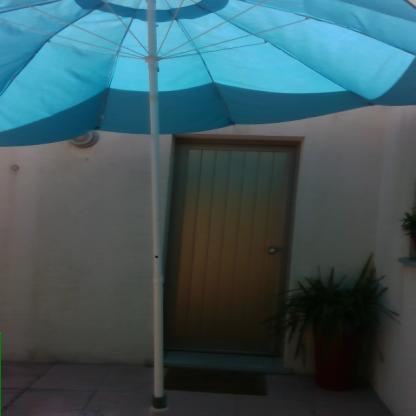closed: (151, 123, 305, 377)
